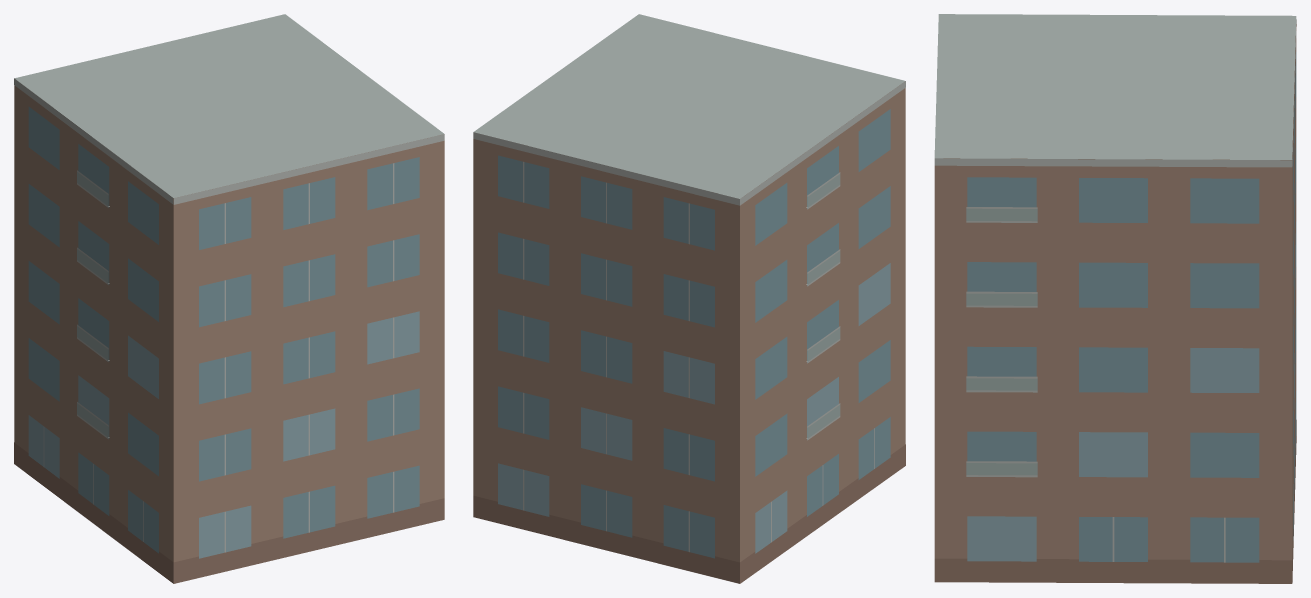
Rendered from survey-upis-32972866.glb.
The picture shows the model from 3 angles, left to right: view 1: azimuth 30°, elevation 25°; view 2: azimuth 150°, elevation 25°; view 3: azimuth 270°, elevation 25°; orthographic projection. The views are drawn at different scales.
Visible parts, largest first — view 1: survey-upis-32972866.tmp; view 2: survey-upis-32972866.tmp; view 3: survey-upis-32972866.tmp.
Boxes of the visible parts, left/top/right/bottom form: survey-upis-32972866.tmp: left=14, top=14, right=444, bottom=583; survey-upis-32972866.tmp: left=473, top=14, right=905, bottom=583; survey-upis-32972866.tmp: left=934, top=14, right=1296, bottom=583.
Bounding box in the file's own units: 10.36 × 14 × 10.84.
